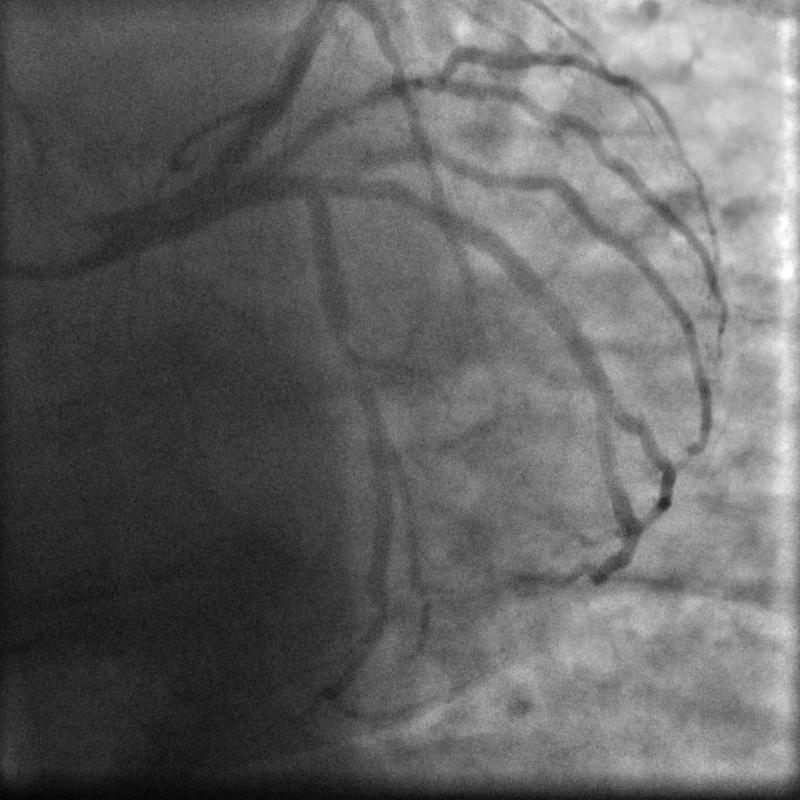Stenosis: (331, 328, 383, 420)
